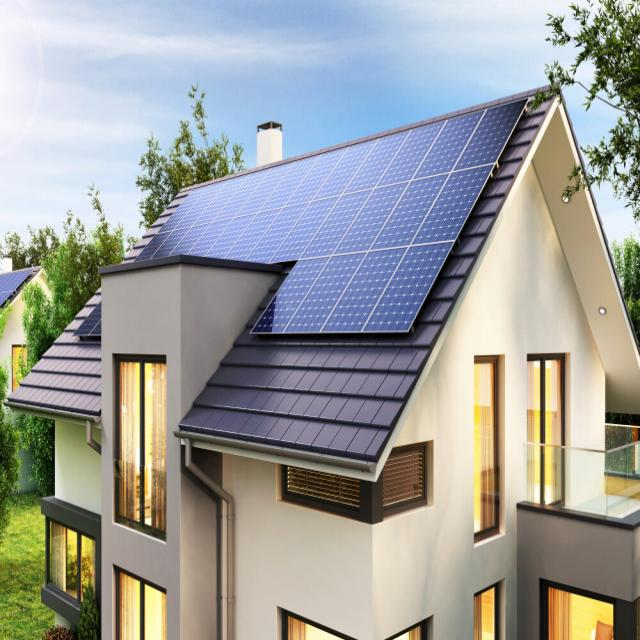clean-solar-panel: (138, 98, 526, 334)
